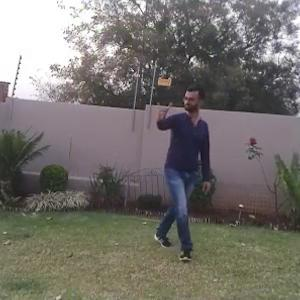takeoff-hand: (153, 103, 175, 133)
